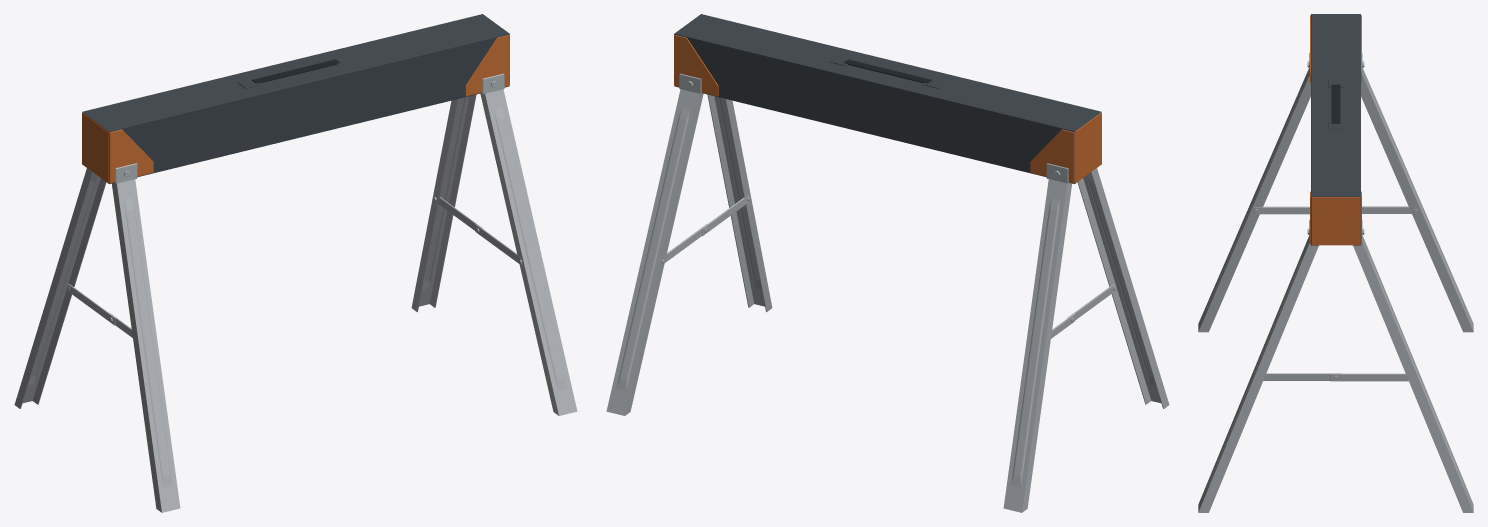
3 views of the same model, side by side, from view 1: azimuth 30°, elevation 25°; view 2: azimuth 150°, elevation 25°; view 3: azimuth 270°, elevation 25° (orthographic). The views are drawn at different scales.
Parts seen in each view (by area): view 1: Inverted_U_beam_with_lower_returns, Left_front_stamped_U_channel_leg, Right_front_stamped_U_channel_leg, Left_rear_stamped_U_channel_leg, Right_rear_stamped_U_channel_leg, Left_beam_end_closure, Right_front_sloped_hinge_cheek, Left_front_sloped_hinge_cheek; view 2: Inverted_U_beam_with_lower_returns, Left_rear_stamped_U_channel_leg, Right_rear_stamped_U_channel_leg, Left_front_stamped_U_channel_leg, Right_front_stamped_U_channel_leg, Left_beam_end_closure, Right_rear_sloped_hinge_cheek, Left_rear_sloped_hinge_cheek; view 3: Inverted_U_beam_with_lower_returns, Right_front_stamped_U_channel_leg, Right_rear_stamped_U_channel_leg, Left_rear_stamped_U_channel_leg, Left_front_stamped_U_channel_leg, Right_beam_end_closure, Right_rear_spreader_leaf, Right_front_spreader_leaf, Left_front_spreader_leaf, Low_profile_carry_strap, Left_rear_spreader_leaf.
Part boxes in pixels (x1,y1,x2,y2): Inverted_U_beam_with_lower_returns: [82, 14, 509, 183]; Left_front_stamped_U_channel_leg: [112, 179, 180, 512]; Right_front_stamped_U_channel_leg: [480, 89, 577, 415]; Left_rear_stamped_U_channel_leg: [14, 168, 106, 408]; Right_rear_stamped_U_channel_leg: [411, 94, 476, 312]; Left_beam_end_closure: [82, 112, 108, 183]; Right_front_sloped_hinge_cheek: [465, 35, 509, 96]; Left_front_sloped_hinge_cheek: [109, 129, 153, 183]; Inverted_U_beam_with_lower_returns: [674, 14, 1101, 183]; Left_rear_stamped_U_channel_leg: [1003, 179, 1071, 512]; Right_rear_stamped_U_channel_leg: [606, 89, 703, 415]; Left_front_stamped_U_channel_leg: [1077, 168, 1169, 408]; Right_front_stamped_U_channel_leg: [707, 94, 772, 312]; Left_beam_end_closure: [1075, 112, 1101, 183]; Right_rear_sloped_hinge_cheek: [674, 35, 718, 96]; Left_rear_sloped_hinge_cheek: [1030, 129, 1074, 183]; Inverted_U_beam_with_lower_returns: [1311, 14, 1360, 245]; Right_front_stamped_U_channel_leg: [1198, 236, 1318, 512]; Right_rear_stamped_U_channel_leg: [1353, 236, 1473, 512]; Left_rear_stamped_U_channel_leg: [1361, 68, 1473, 332]; Left_front_stamped_U_channel_leg: [1198, 68, 1310, 332]; Right_beam_end_closure: [1311, 197, 1360, 245]; Right_rear_spreader_leaf: [1330, 373, 1408, 381]; Right_front_spreader_leaf: [1263, 373, 1341, 380]; Left_front_spreader_leaf: [1254, 206, 1309, 214]; Low_profile_carry_strap: [1331, 84, 1340, 123]; Left_rear_spreader_leaf: [1362, 206, 1411, 213].
Bounding box in the file's own units: 0.935 × 0.7249 × 0.5751.
